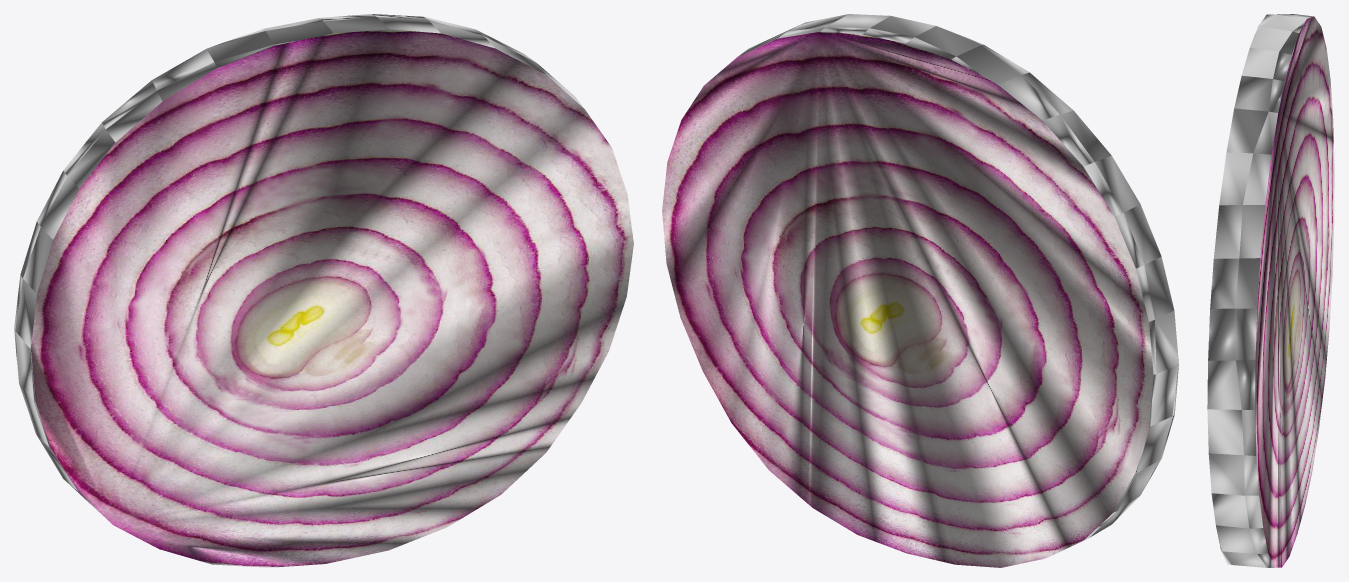
The model's file is slicedOnion.fbx.
3 views of the same model, side by side, from view 1: azimuth 30°, elevation 25°; view 2: azimuth 150°, elevation 25°; view 3: azimuth 270°, elevation 25° (orthographic). The views are drawn at different scales.
Visible parts, largest first — view 1: Onion_inside, Onion_01; view 2: Onion_otherside, Onion_01; view 3: Onion_otherside, Onion_01.
Part boxes in pixels (<box>): Onion_inside: <box>31,29,633,567</box>; Onion_01: <box>14,14,584,520</box>; Onion_otherside: <box>662,31,1153,567</box>; Onion_01: <box>738,14,1178,556</box>; Onion_otherside: <box>1255,16,1334,567</box>; Onion_01: <box>1207,14,1313,567</box>.
Bounding box in the file's own units: 6.85 × 6.21 × 1.48.
